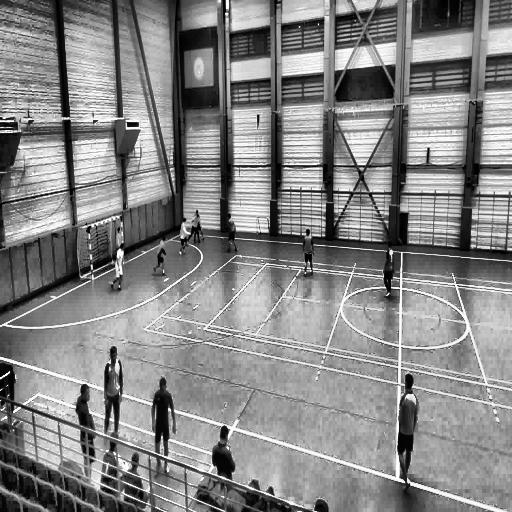player: (396, 372, 418, 492), (152, 377, 176, 476), (76, 384, 96, 485), (104, 348, 122, 444), (111, 240, 126, 290), (383, 240, 394, 298), (302, 228, 315, 276), (154, 234, 168, 276), (226, 214, 237, 252), (179, 218, 190, 256), (191, 211, 202, 244), (115, 228, 125, 250)
